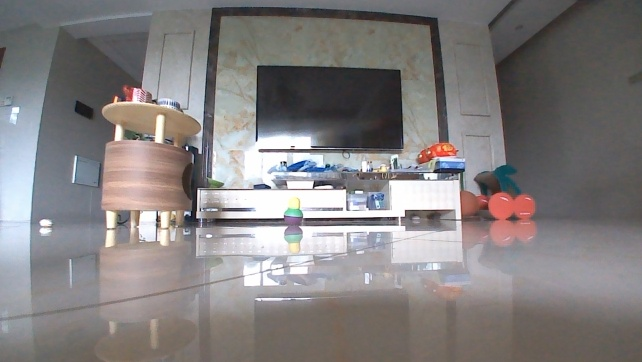TV_stand: (191, 164, 466, 225)
plastic_toy: (279, 195, 303, 225)
